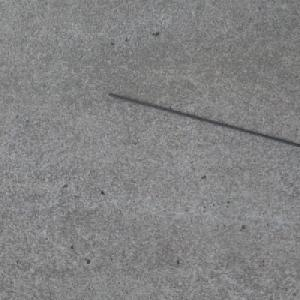LuggagePart: (108, 91, 300, 147)
